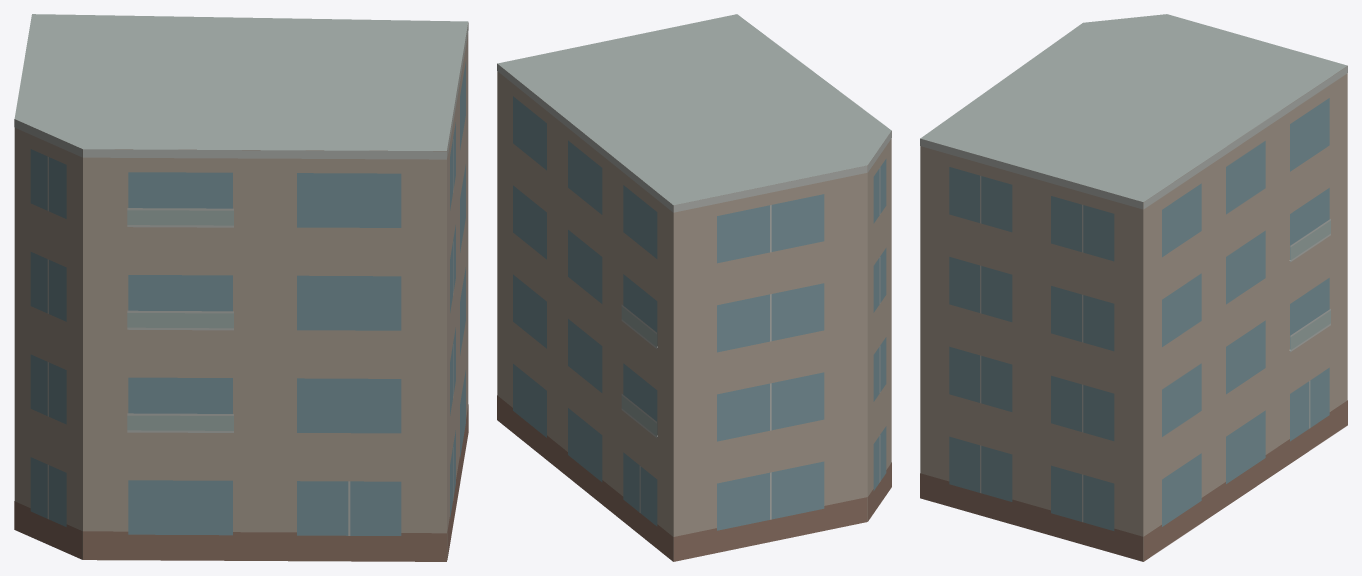
Rendered from survey-upis-32869391.glb.
3 views of the same model, side by side, from view 1: azimuth 30°, elevation 25°; view 2: azimuth 150°, elevation 25°; view 3: azimuth 270°, elevation 25° (orthographic). The views are drawn at different scales.
Parts seen in each view (by area): view 1: survey-upis-32869391.tmp; view 2: survey-upis-32869391.tmp; view 3: survey-upis-32869391.tmp.
Boxes of the visible parts, left/top/right/bottom form: survey-upis-32869391.tmp: left=14, top=14, right=468, bottom=561; survey-upis-32869391.tmp: left=497, top=14, right=891, bottom=561; survey-upis-32869391.tmp: left=920, top=14, right=1347, bottom=561.
Bounding box in the file's own units: 13.25 × 11.8 × 12.72.
